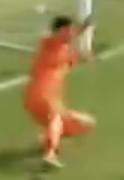goalkeeper: (23, 8, 107, 180)
